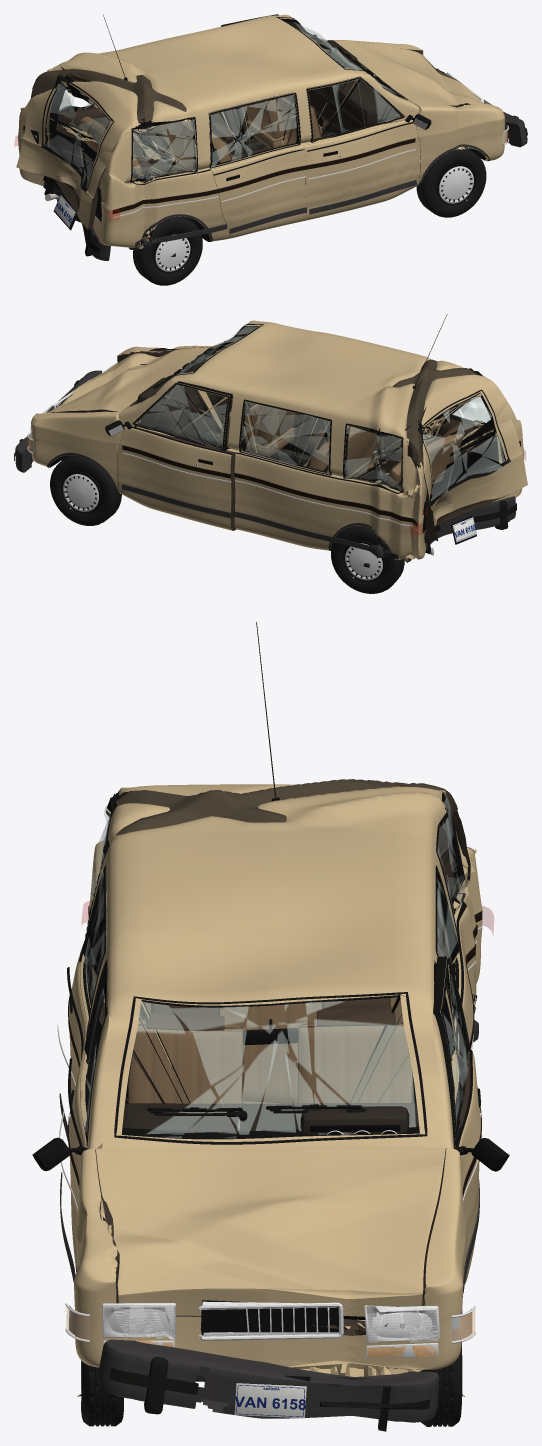
The model's file is minivan86_rear_d1.glb.
The picture shows the model from 3 angles, top to bottom: view 1: azimuth 30°, elevation 25°; view 2: azimuth 150°, elevation 25°; view 3: azimuth 270°, elevation 25°; orthographic projection. The views are drawn at different scales.
Parts seen in each view (by area): view 1: Body, Interior, Door_FR, Liftgate, Door_SR, Hood, Glass, Wheel_FR_mesh, Wheel_RR_mesh, Trim, Glass_Liftgate, Glass_SR (+8 smaller); view 2: Body, Door_FL, Interior, Liftgate, Glass, Trim, Hood, Wheel_FL_mesh, Glass_Liftgate, Wheel_RL_mesh, Glass_FL, Trim_FL (+5 smaller); view 3: Body, Hood, Interior, Glass, Bumper_F, Ends, Door_FL, Trim, Lamps_Head, Door_FR, Trim_FL, Trim_FR (+7 smaller).
Boxes of the visible parts, x1=… form: Body: x1=17, y1=14, x2=504, y2=249; Interior: x1=80, y1=40, x2=397, y2=175; Door_FR: x1=304, y1=76, x2=420, y2=220; Liftgate: x1=16, y1=65, x2=133, y2=229; Door_SR: x1=208, y1=92, x2=305, y2=238; Hood: x1=335, y1=40, x2=482, y2=106; Glass: x1=59, y1=17, x2=407, y2=182; Wheel_FR_mesh: x1=416, y1=148, x2=486, y2=217; Wheel_RR_mesh: x1=133, y1=216, x2=202, y2=285; Trim: x1=59, y1=14, x2=489, y2=248; Glass_Liftgate: x1=41, y1=75, x2=114, y2=191; Glass_SR: x1=208, y1=95, x2=300, y2=168; Body: x1=31, y1=320, x2=524, y2=562; Door_FL: x1=117, y1=381, x2=236, y2=530; Interior: x1=137, y1=354, x2=463, y2=485; Liftgate: x1=401, y1=377, x2=527, y2=540; Glass: x1=130, y1=324, x2=490, y2=487; Trim: x1=47, y1=314, x2=484, y2=559; Hood: x1=47, y1=347, x2=208, y2=412; Wheel_FL_mesh: x1=50, y1=455, x2=121, y2=525; Glass_Liftgate: x1=418, y1=389, x2=510, y2=506; Wheel_RL_mesh: x1=331, y1=525, x2=404, y2=593; Glass_FL: x1=137, y1=382, x2=230, y2=451; Trim_FL: x1=105, y1=383, x2=231, y2=518; Body: x1=71, y1=779, x2=482, y2=1376; Hood: x1=95, y1=1146, x2=445, y2=1335; Interior: x1=122, y1=997, x2=419, y2=1134; Glass: x1=90, y1=794, x2=465, y2=1144; Bumper_F: x1=97, y1=1339, x2=439, y2=1431; Ends: x1=65, y1=1300, x2=476, y2=1418; Door_FL: x1=433, y1=956, x2=480, y2=1285; Trim: x1=68, y1=622, x2=482, y2=1313; Lamps_Head: x1=113, y1=1305, x2=438, y2=1342; Door_FR: x1=69, y1=959, x2=108, y2=1271; Trim_FL: x1=441, y1=957, x2=509, y2=1283; Trim_FR: x1=32, y1=960, x2=107, y2=1282.
Bounding box in the file's own units: 4.41 × 2.37 × 2.07.
34 materials, 5 textured.
